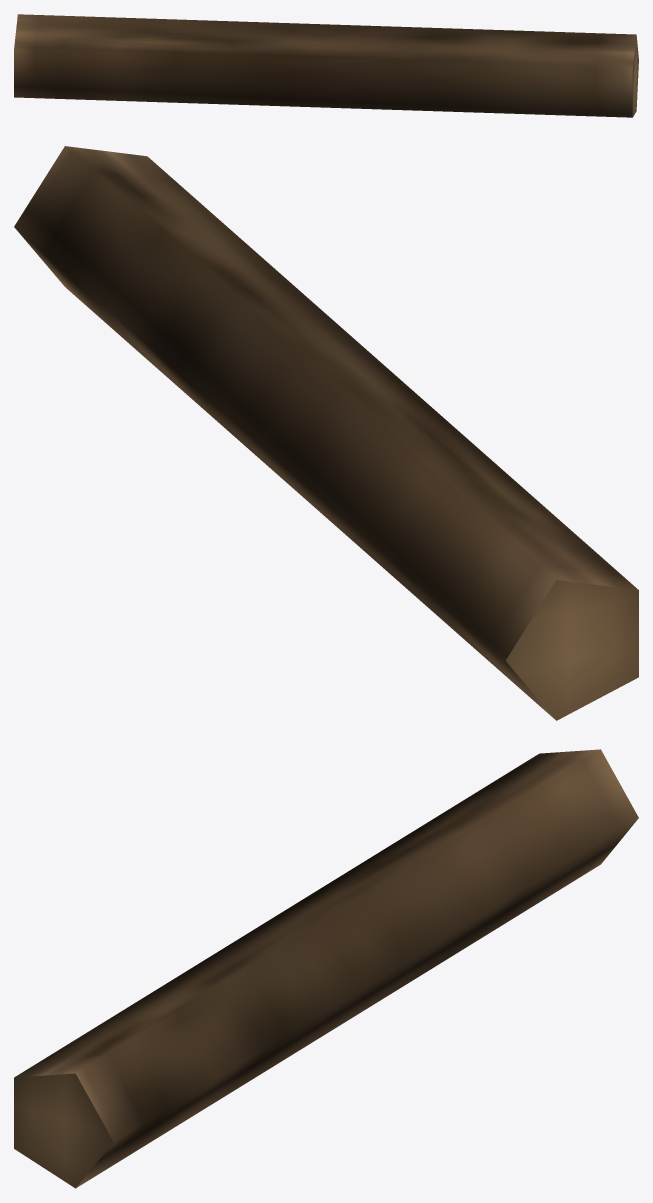
The model's file is Log.fbx.
3 renders of one model, top to bottom at view 1: azimuth 30°, elevation 25°; view 2: azimuth 150°, elevation 25°; view 3: azimuth 270°, elevation 25°, orthographic. The views are drawn at different scales.
Visible parts, largest first — view 1: Log; view 2: Log; view 3: Log.
Boxes of the visible parts, box(x1,y1,x2,y2) form: Log: box(14, 14, 638, 117); Log: box(14, 146, 638, 720); Log: box(14, 749, 638, 1188).
Size of the model in its own units: 188 by 28.59 by 141.
Materials: 1 (1 with a texture image).
